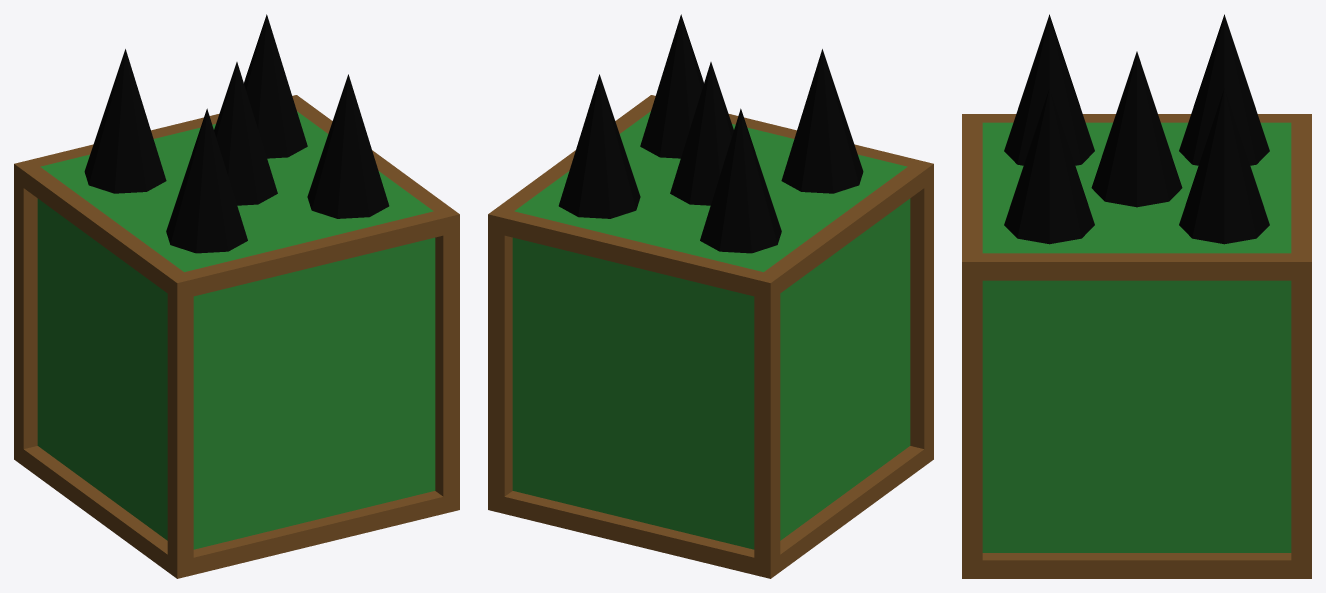
The model's file is spike block.fbx.
The picture shows the model from 3 angles, left to right: view 1: azimuth 30°, elevation 25°; view 2: azimuth 150°, elevation 25°; view 3: azimuth 270°, elevation 25°; orthographic projection. The views are drawn at different scales.
Visible parts, largest first — view 1: Cube; view 2: Cube; view 3: Cube.
Part boxes in pixels (x1,y1,x2,y2): Cube: [14, 14, 459, 578]; Cube: [488, 14, 933, 578]; Cube: [962, 14, 1311, 578].
Bounding box in the file's own units: 200 × 287 × 200.
